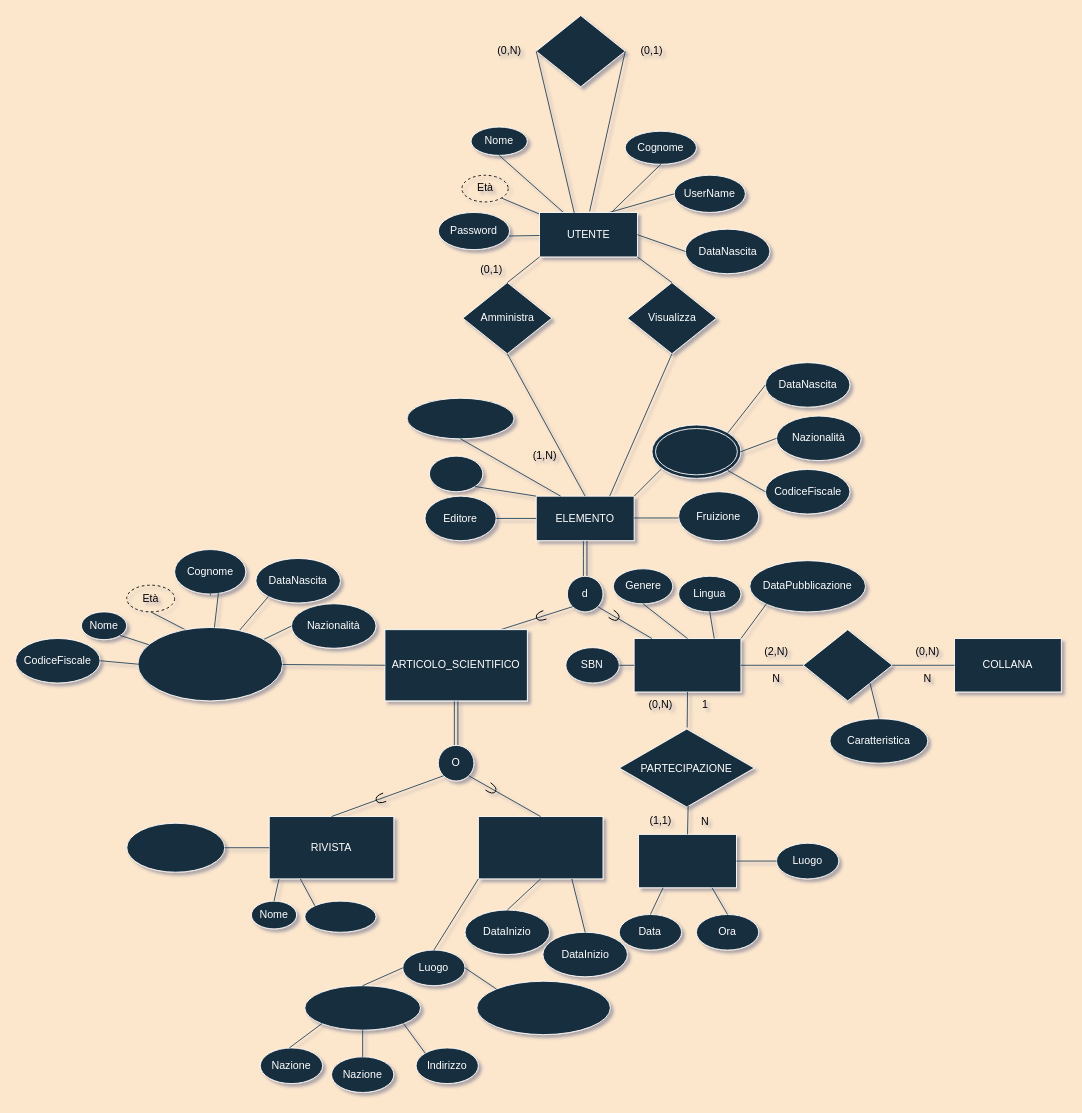
Some shapes in this 1082 by 1113 pixel diagram are drawn without their labels. The centre of each missing label's shape, as x and y in pixels:
AnnoFondazione: pixel 175 847
AnnoPubblicazione: pixel 460 418
Argomento: pixel 340 916
Autore: pixel 696 451
CONFERENZA: pixel 540 847
FA_PARTE_DI: pixel 847 665
LIBRO: pixel 687 665
LuogoConferenza: pixel 362 1007
PRESENTAZIONE: pixel 687 860
ResponsabilePubblicazione: pixel 210 664
StrutturaOrganizzatrice: pixel 543 1007
Supervisione: pixel 580 51
Titolo: pixel 456 473
